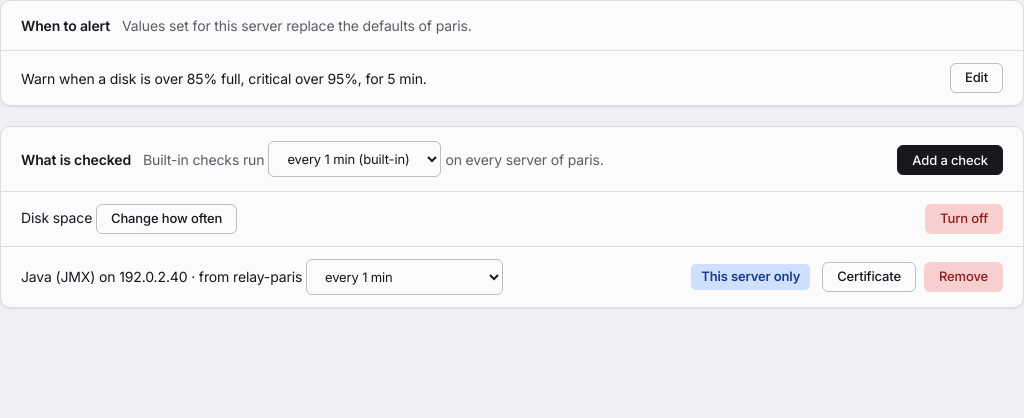
Test: MonitoringSettings › offers to test the certificate of a Java check over HTTPS again
This screenshot has width=1024, height=418.
Click the button with aria-label "Test the certificate of Java".
click(869, 277)  # box [822,262,916,292]
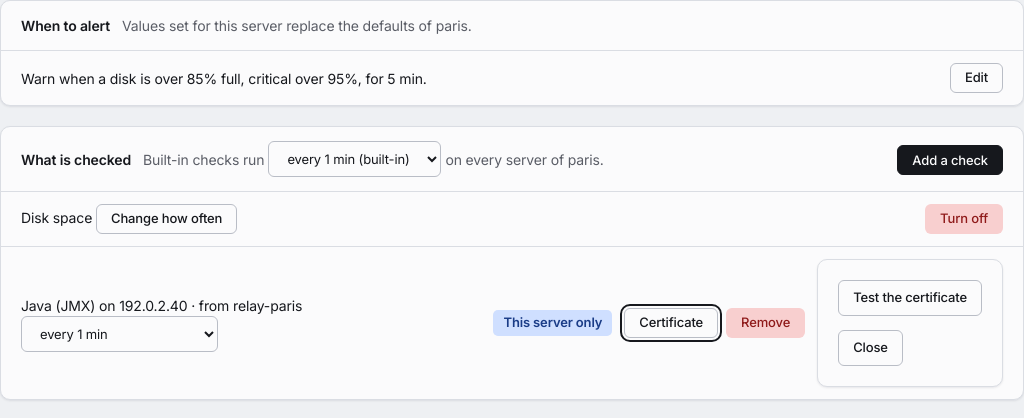
Now the button "Test the certificate" is shown, box [838,280,982,316]
